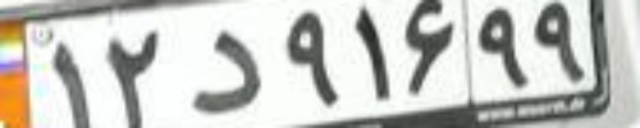1: (350, 7, 392, 99), (48, 44, 90, 126)
2: (106, 29, 158, 127)
6: (403, 0, 452, 94)
9: (286, 12, 336, 103), (534, 3, 585, 82), (476, 9, 524, 86)
dal: (192, 31, 258, 112)
